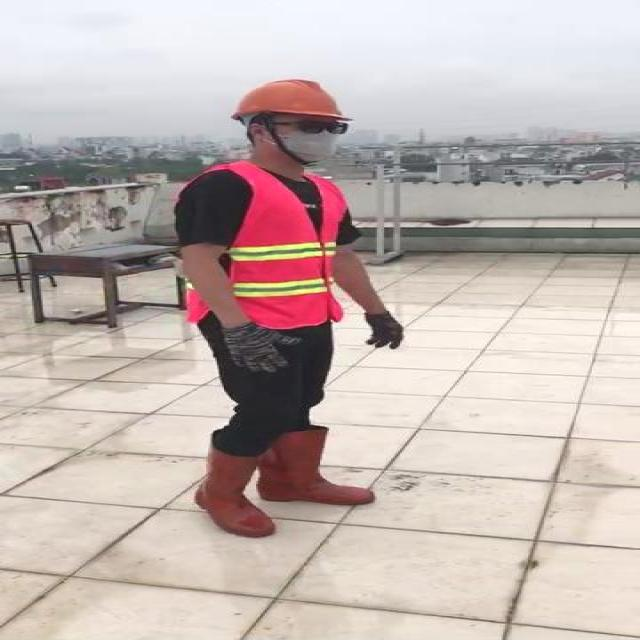boots: (258, 426, 375, 505), (190, 439, 276, 539)
face_mask: (276, 119, 350, 164)
glasses: (290, 116, 354, 136)
hand_glove: (224, 325, 297, 375), (368, 312, 405, 350)
head_helmet: (231, 76, 347, 122)
person: (156, 75, 420, 539)
vest: (182, 166, 348, 329)
